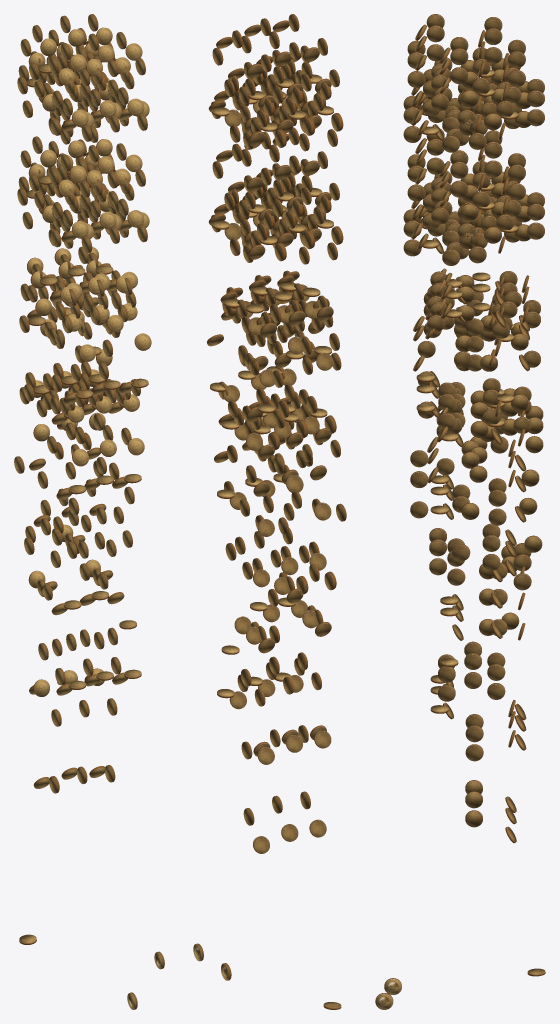
Rendered from flying_coins.glb.
3 renders of one model, left to right at view 1: azimuth 30°, elevation 25°; view 2: azimuth 210°, elevation 25°; view 3: azimuth 270°, elevation 25°, orthographic.
Size of the model in its own units: 60.71 by 705 by 111.
4 materials, 3 textured.
